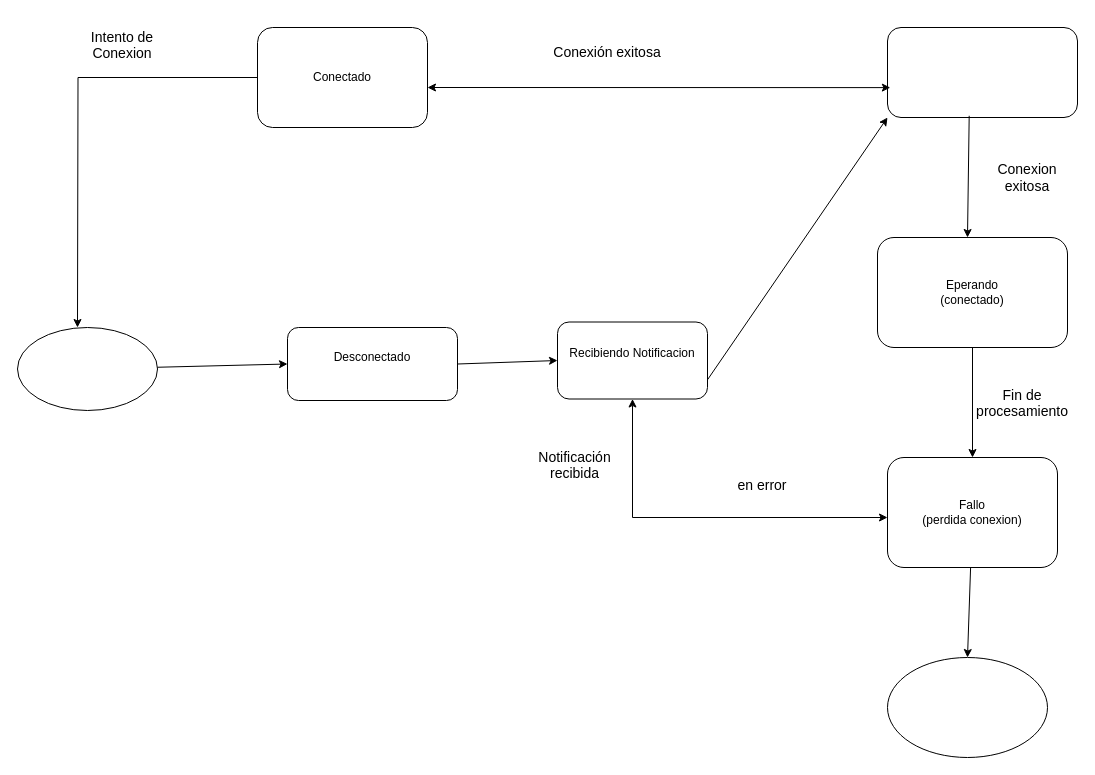
Image size: 1095x775. Some labels were removed from this diagram. The shapes that lost their labels are listed below. From the top down, each one's centre as x and y in pixels, then its label:
At (982,72): "Esperando (suscrito)".
At (87,368): "Inicio".
At (967,707): "Perdida de conexion (Fin)".
